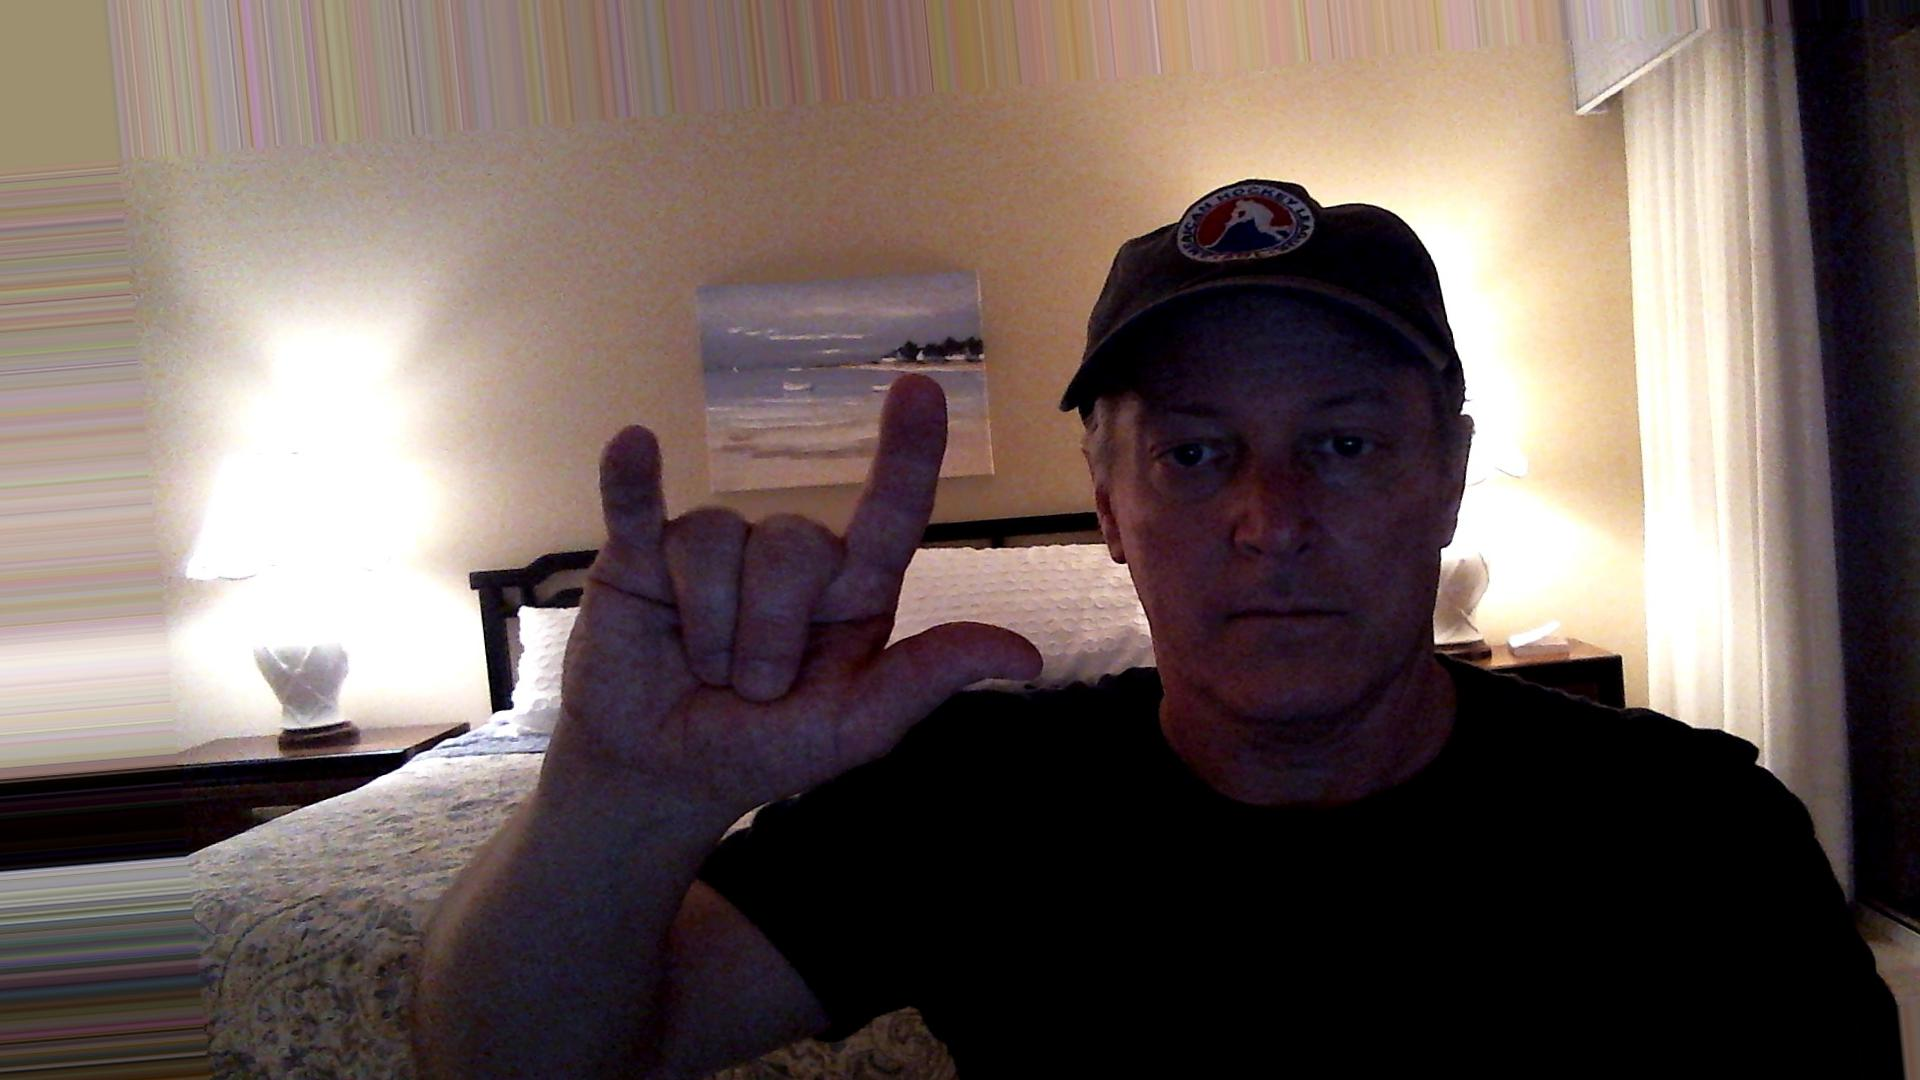I Love You: (543, 344, 1095, 808)
